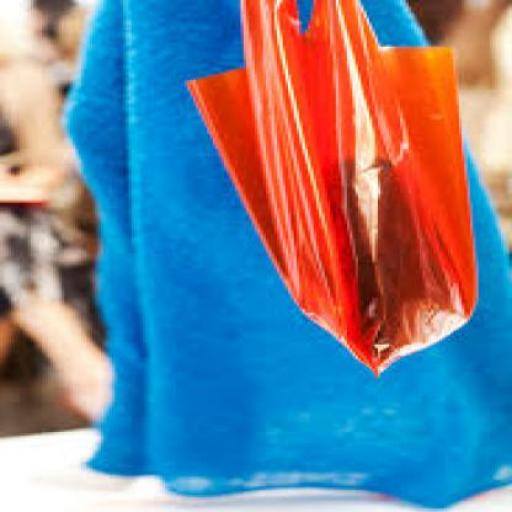plastic: (193, 1, 481, 372)
